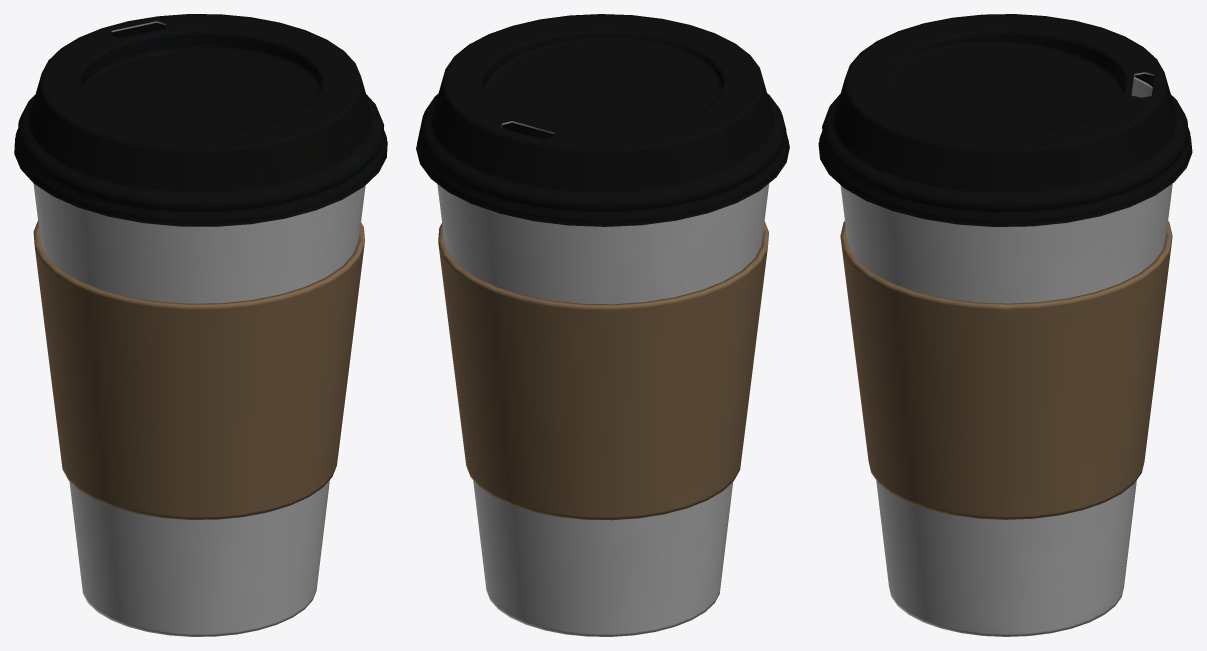
File: coffee-cup.glb
3 renders of one model, left to right at view 1: azimuth 30°, elevation 25°; view 2: azimuth 150°, elevation 25°; view 3: azimuth 270°, elevation 25°, orthographic.
Parts seen in each view (by area): view 1: Object_3; view 2: Object_3; view 3: Object_3.
Part boxes in pixels (box(x1,y1,x2,y2)): Object_3: box(14, 14, 387, 636); Object_3: box(416, 14, 789, 636); Object_3: box(818, 14, 1192, 636).
Bounding box in the file's own units: 0.1005 × 0.15 × 0.1005.
1 material, 1 textured.
